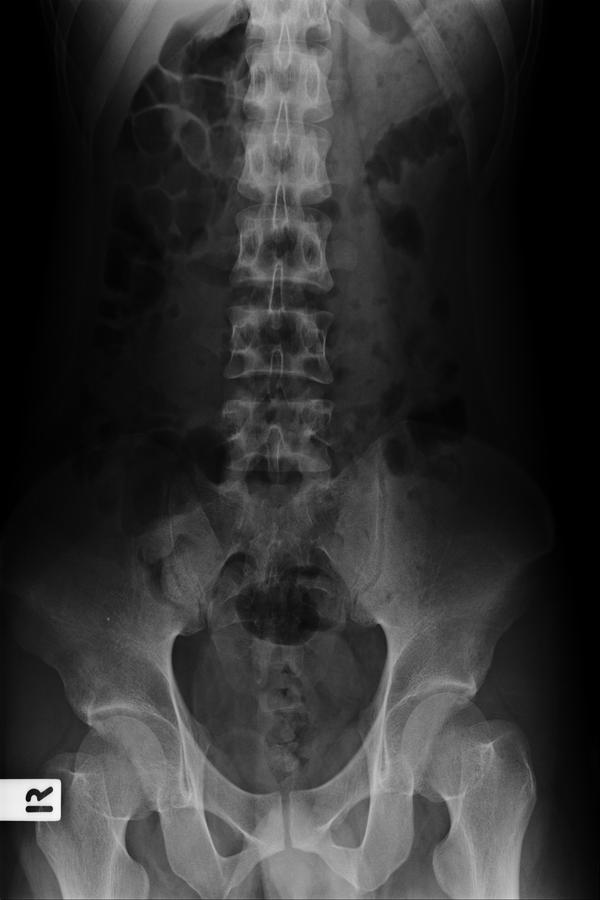not lumbar scoliosis: (218, 133, 342, 548)
